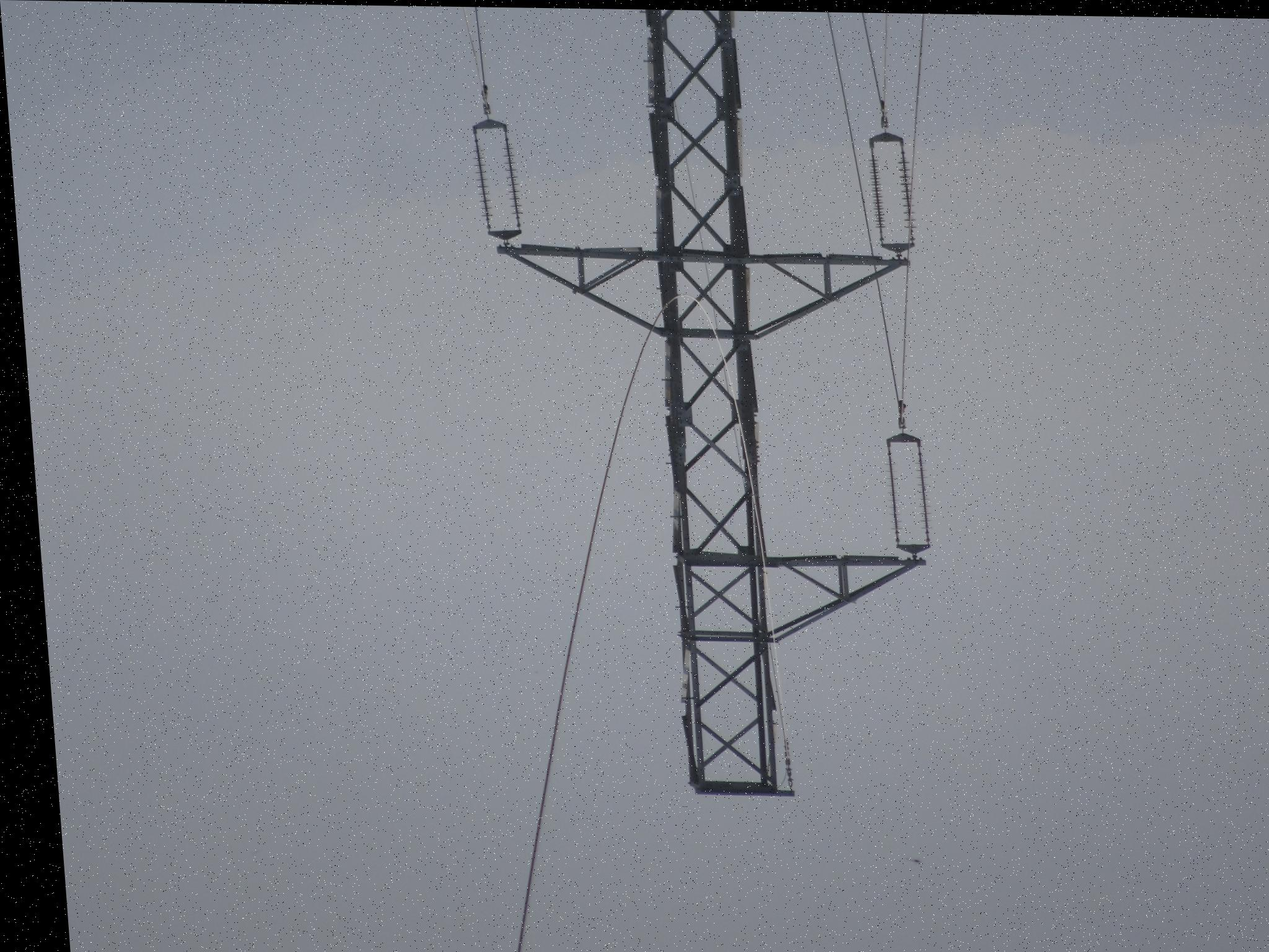tower: (452, 7, 968, 825)
